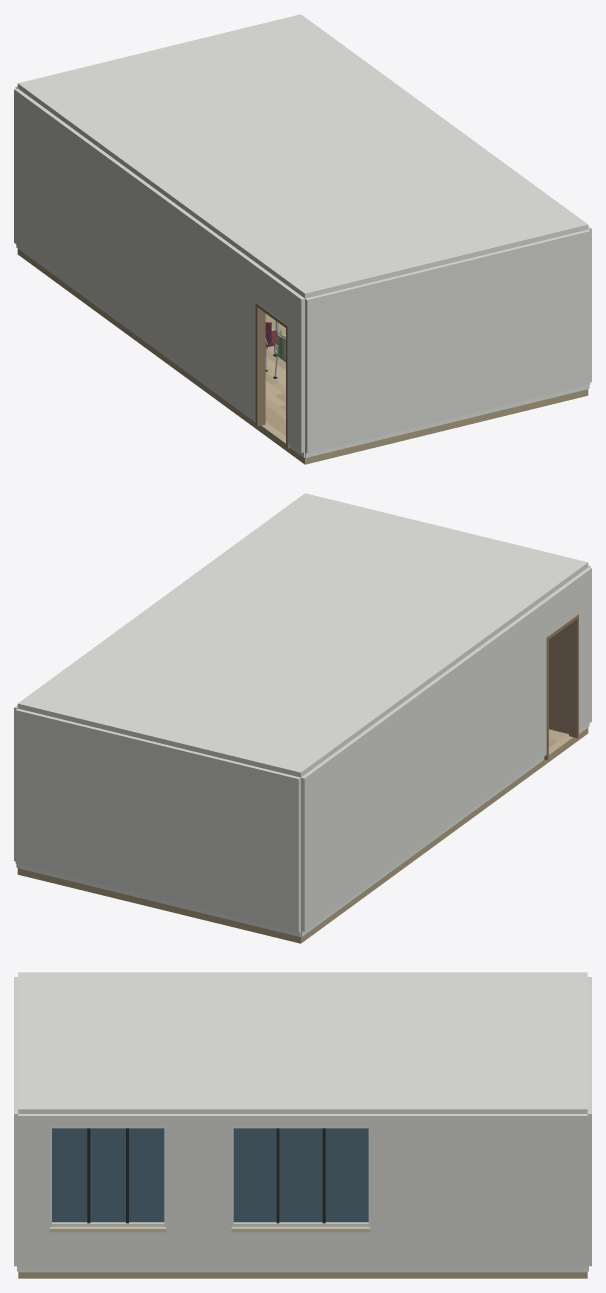
The model's file is old-606-interior-ec3a289131db.glb.
The picture shows the model from 3 angles, top to bottom: view 1: azimuth 30°, elevation 25°; view 2: azimuth 150°, elevation 25°; view 3: azimuth 270°, elevation 25°; orthographic projection.
Parts seen in each view (by area): view 1: old-606; view 2: old-606; view 3: old-606.
Boxes of the visible parts, <box> form: old-606: <box>14,14,591,464</box>; old-606: <box>14,493,591,943</box>; old-606: <box>14,972,591,1278</box>.
Bounding box in the file's own units: 5.62 × 3.12 × 9.64.
